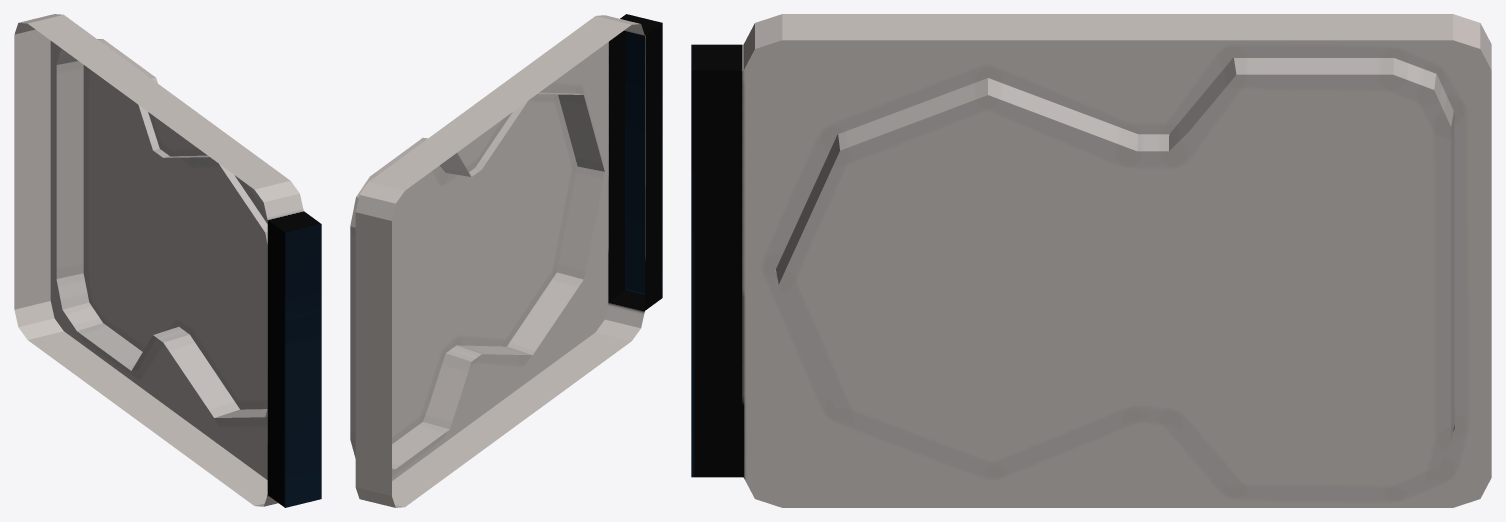
Rendered from Disco pc.fbx.
3 views of the same model, side by side, from view 1: azimuth 30°, elevation 25°; view 2: azimuth 150°, elevation 25°; view 3: azimuth 270°, elevation 25° (orthographic). The views are drawn at different scales.
Parts seen in each view (by area): view 1: Disco; view 2: Disco; view 3: Disco.
Part boxes in pixels (left/top/right/bottom): Disco: left=14, top=14, right=321, bottom=507; Disco: left=350, top=14, right=662, bottom=507; Disco: left=691, top=14, right=1491, bottom=507.
Bounding box in the file's own units: 19.46 × 106 × 165.
